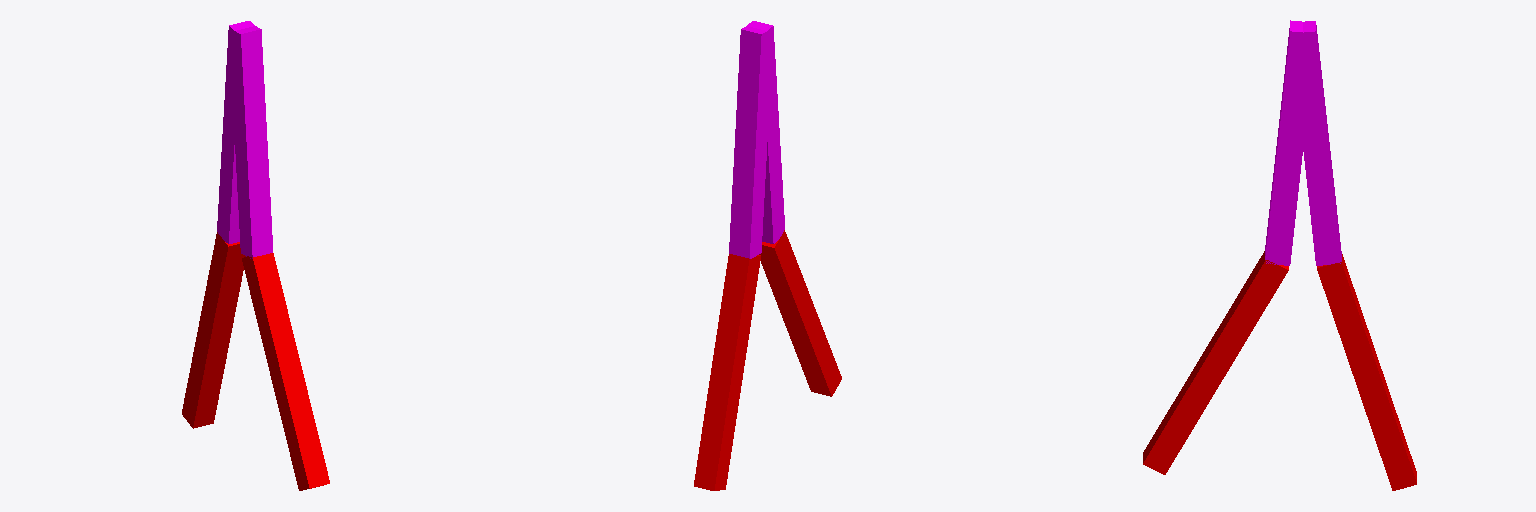
The robot description file, URDF, robot "Fourbar":
<?xml version="1.0"?>

<robot name="Fourbar">
	<link name="base_link">
	</link>

  <link name="link1">
    <inertial>
      <origin xyz="0 0 -0.5" rpy="0 0. 0." />
      <mass value="1" />
      <inertia ixx=".0841667" ixy="0" ixz="0" iyy=".0841667" iyz="0" izz=".00166667" />
    </inertial>
    <visual>
      <origin xyz="0 0 -0.5" rpy="0 0. 0." />
      <geometry>
         <!-- <cylinder length="1" radius=".05" /> -->
         <box size=".1 .1 1" />
      </geometry>
      <material name="green">
	       <color rgba="1 0 1 1" />
      </material>
    </visual>
  </link>

  <link name="link2">
    <inertial>
      <origin xyz="0 0 -0.5" rpy="0 0. 0." />
      <mass value="1" />
      <inertia ixx=".0841667" ixy="0" ixz="0" iyy=".0841667" iyz="0" izz=".00166667" />
    </inertial>
    <visual>
      <origin xyz="0 0 -0.5" rpy="0 0. 0." />
      <geometry>
         <box size=".1 .1 1" />
      </geometry>
      <material name="green">
	       <color rgba="1 0 0 1" />
      </material>
    </visual>
  </link>

  <link name="link3">
    <inertial>
      <origin xyz="0 0 -0.5" rpy="0 0. 0." />
      <mass value="1" />
      <inertia ixx=".0841667" ixy="0" ixz="0" iyy=".0841667" iyz="0" izz=".00166667" />
    </inertial>
    <visual>
      <origin xyz="0 0 -0.5" rpy="0 0. 0." />
      <geometry>
         <!-- <cylinder length="1" radius=".05" /> -->
         <box size=".1 .1 1" />
      </geometry>
      <material name="green">
	       <color rgba="1 0 1 1" />
      </material>
    </visual>
  </link>

  <link name="link4">
    <inertial>
      <origin xyz="0 0 -0.5" rpy="0 0. 0." />
      <mass value="1" />
      <inertia ixx=".0841667" ixy="0" ixz="0" iyy=".0841667" iyz="0" izz=".00166667" />
    </inertial>
    <visual>
      <origin xyz="0 0 -0.5" rpy="0 0. 0." />
      <geometry>
         <box size=".1 .1 1" />
      </geometry>
      <material name="green">
	       <color rgba="1 0 0 1" />
      </material>
    </visual>
  </link>



	<joint name="jointb1" type="continuous">
		<parent link="base_link" />
		<child link="link1" />
		<origin rpy="0.1 0 0" xyz="0 0 0" />
		<axis xyz="1 0 0" />
	</joint>

  <joint name="joint12" type="continuous">
		<parent link="link1" />
		<child link="link2" />
		<origin rpy="0.2 0 0" xyz="0 0 -1" />
		<axis xyz="1 0 0" />
	</joint>

  <joint name="joint13" type="continuous">
		<parent link="link1" />
		<child link="link3" />
		<origin rpy="-0.2 0 0" xyz="0 0 0" />
		<axis xyz="1 0 0" />
	</joint>

  <joint name="joint34" type="continuous">
		<parent link="link3" />
		<child link="link4" />
		<origin rpy="-0.4 0 0" xyz="0 0 -1" />
		<axis xyz="1 0 0" />
	</joint>

  <loop_joint name="joint24" type="continuous">
    <axis xyz="1 0 0"/>
    <link1 link="link2" rpy="0 0 0" xyz="0 0 -1"/>
    <link2 link="link4" rpy="0 0 0" xyz="0 0 -1"/>
	</loop_joint>



</robot>

--- Facts derived from the render (not from the file) ---
3 views of the same robot in one strip: view 1: azimuth 30°, elevation 25°; view 2: azimuth 150°, elevation 25°; view 3: azimuth 270°, elevation 25° (orthographic).
Robot: Fourbar — 5 links, 4 joints (4 continuous); root link base_link; default pose: every joint at zero.
Visible links, largest first — view 1: link4, link3, link2, link1; view 2: link2, link1, link4, link3; view 3: link4, link2, link1, link3.
Link boxes in pixels (box(x1,y1,x2,y2)): link4: box(242, 253, 329, 490); link3: box(229, 26, 272, 258); link2: box(182, 232, 245, 428); link1: box(217, 21, 254, 243); link2: box(694, 254, 760, 490); link1: box(729, 26, 773, 258); link4: box(759, 230, 841, 396); link3: box(747, 21, 784, 243); link4: box(1143, 251, 1288, 474); link2: box(1317, 254, 1416, 490); link1: box(1290, 21, 1341, 265); link3: box(1265, 20, 1315, 265).
Size in the robot's own frame: 0.1 by 1.07 by 1.97 metres.
Geometry: primitives only (box / cylinder / sphere), no mesh files.